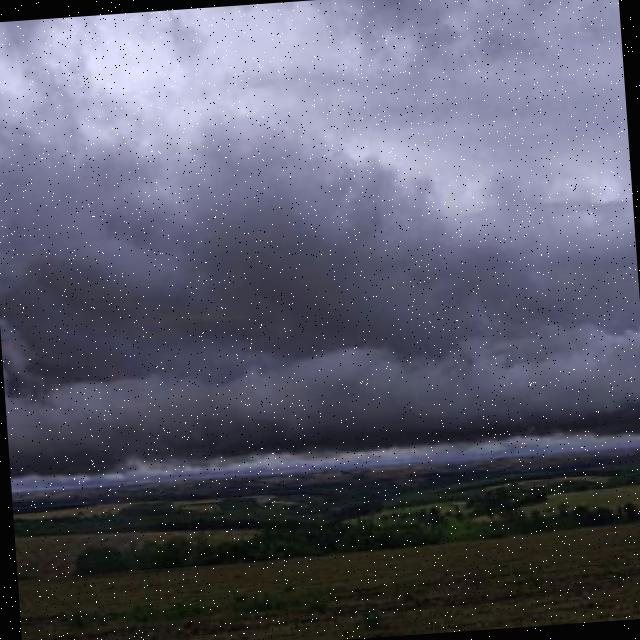Ns: (1, 48, 640, 487)
